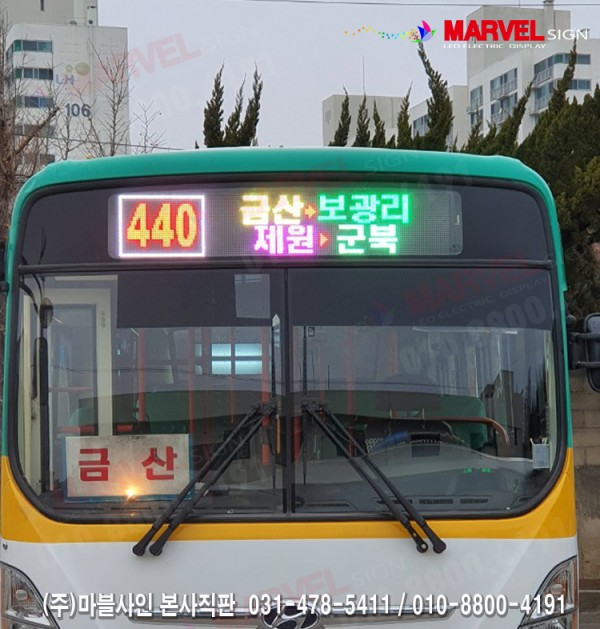bnum: (119, 195, 204, 254)
